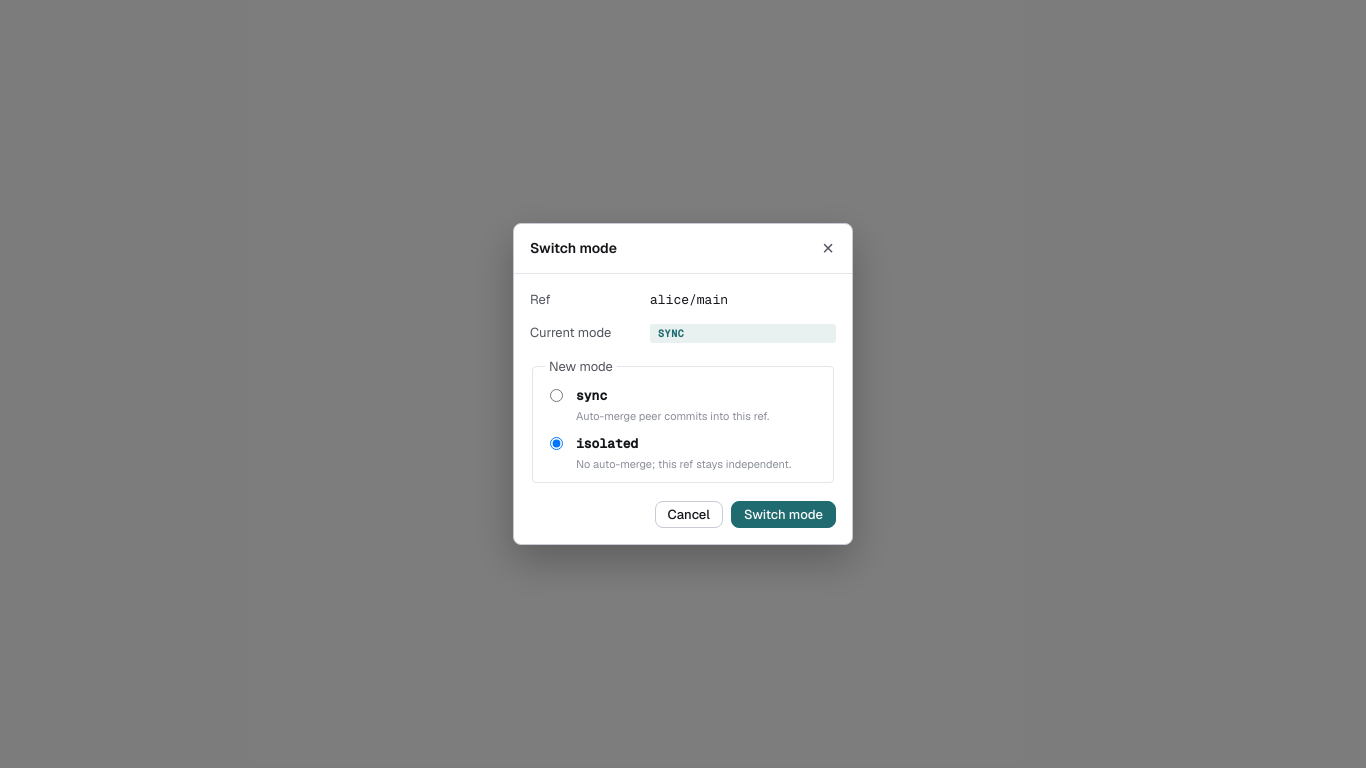
ModeSwitchDialog › shows error alert when POST fails
Click the button "Switch mode" at (783, 515), box [731,501,836,528]
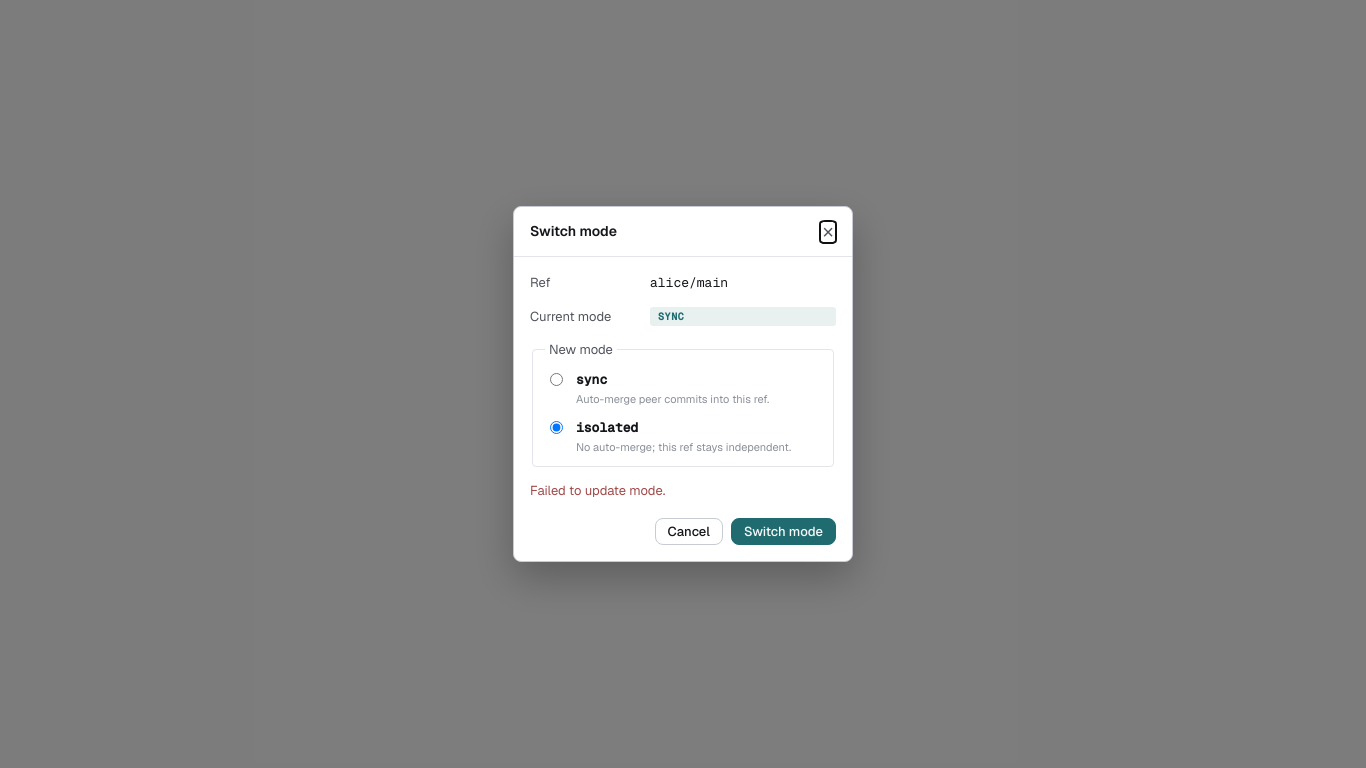
Expected: the message shows "Failed to update mode", [530,482,665,498]
